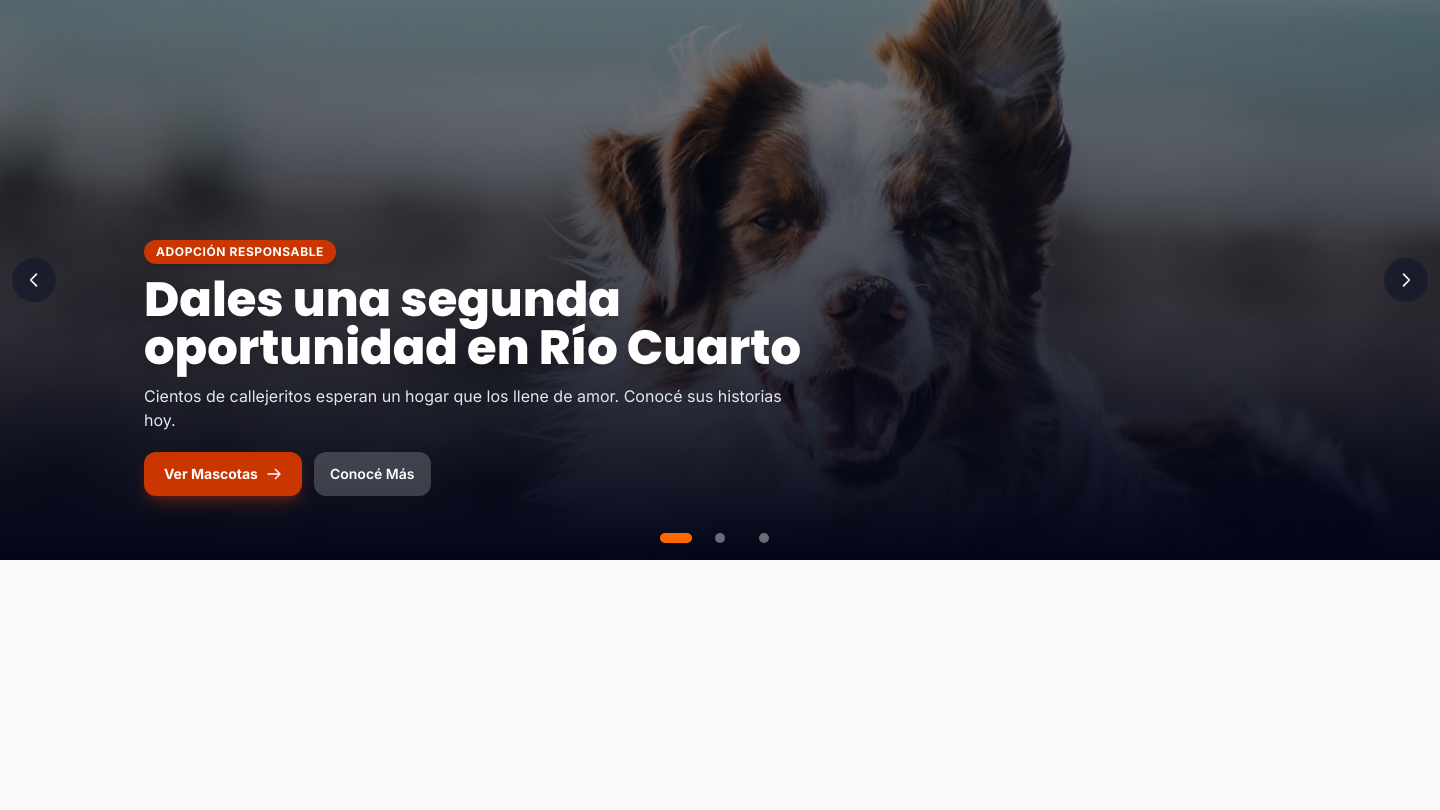
Test: HeroCarousel › cambia de slide con las flechas y los puntitos
Click the button named "Slide siguiente" at (1406, 280), box top-left (1384, 258), bottom-right (1428, 302)
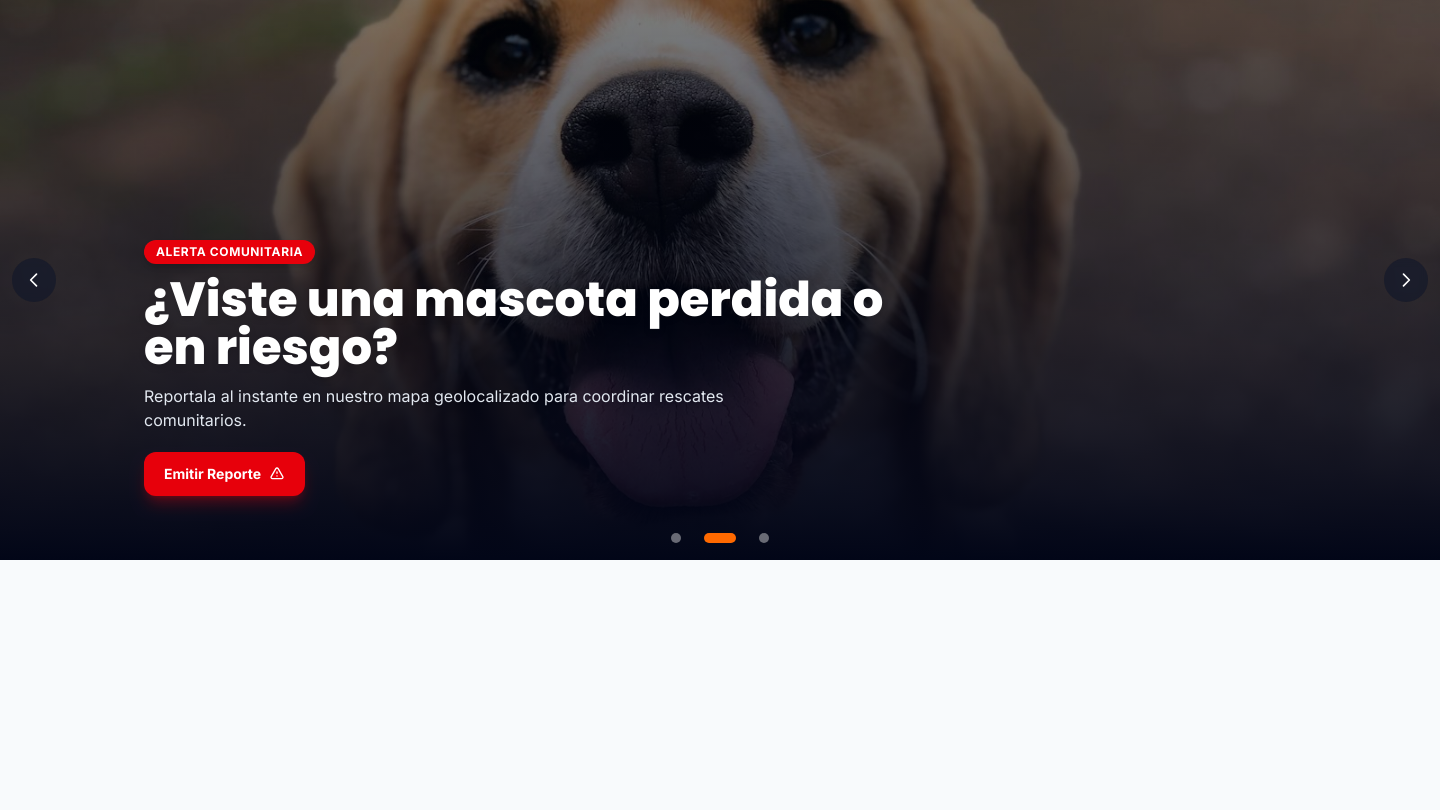
expect the heading "¿Viste una mascota perdida o en riesgo?" is shown: met, box top-left (144, 276), bottom-right (912, 372)
Click the button named "Slide anterior" at (34, 280), box top-left (12, 258), bottom-right (56, 302)
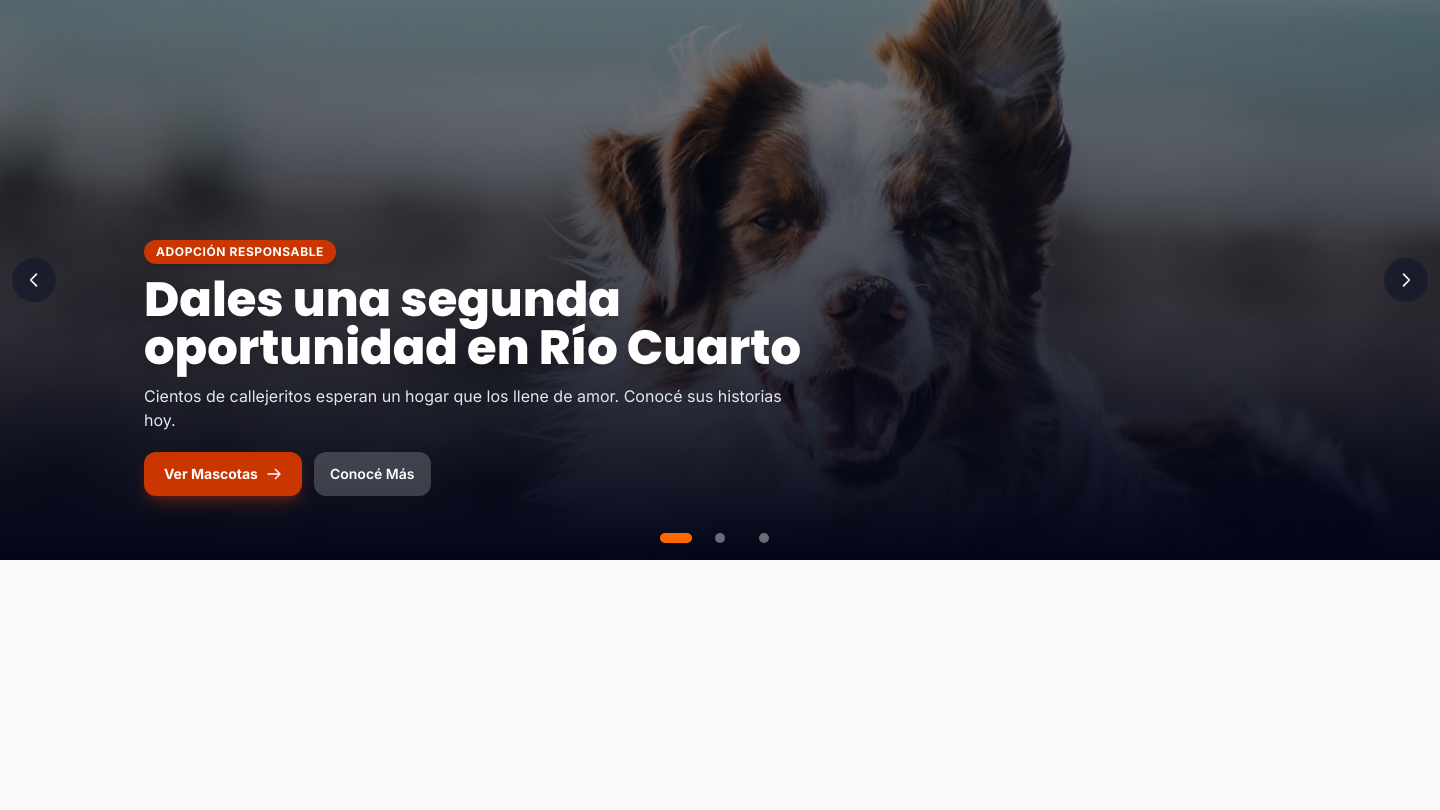
expect the heading "Dales una segunda oportunidad en Río Cuarto" is shown: met, box top-left (144, 276), bottom-right (912, 372)
Desde el primero, "anterior" vuelve al último.
Click the button named "Slide anterior" at (34, 280), box top-left (12, 258), bottom-right (56, 302)
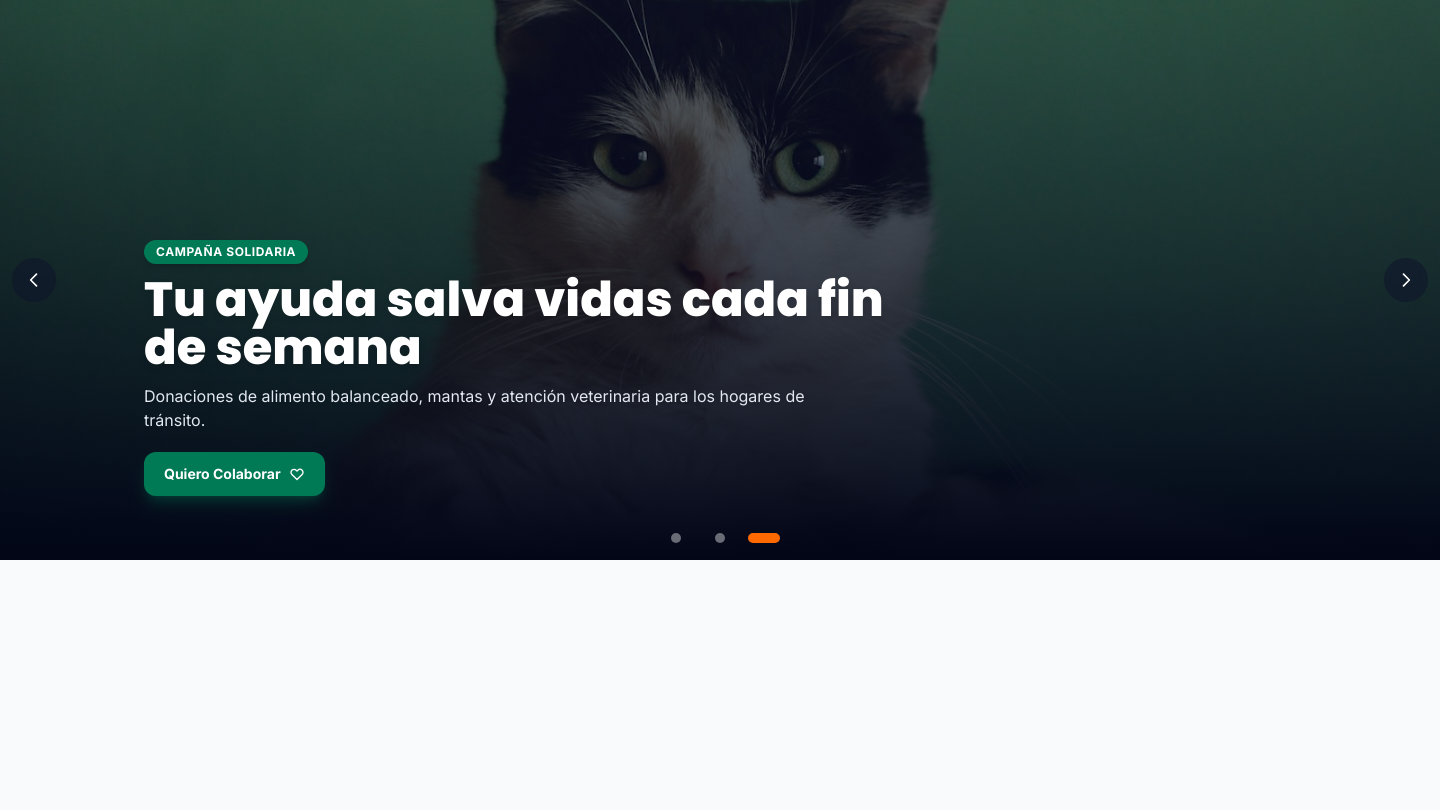
expect the heading "Tu ayuda salva vidas cada fin de semana" is shown: met, box top-left (144, 276), bottom-right (912, 372)
Click the button named "Ir al slide 2" at (720, 538), box top-left (698, 516), bottom-right (742, 560)
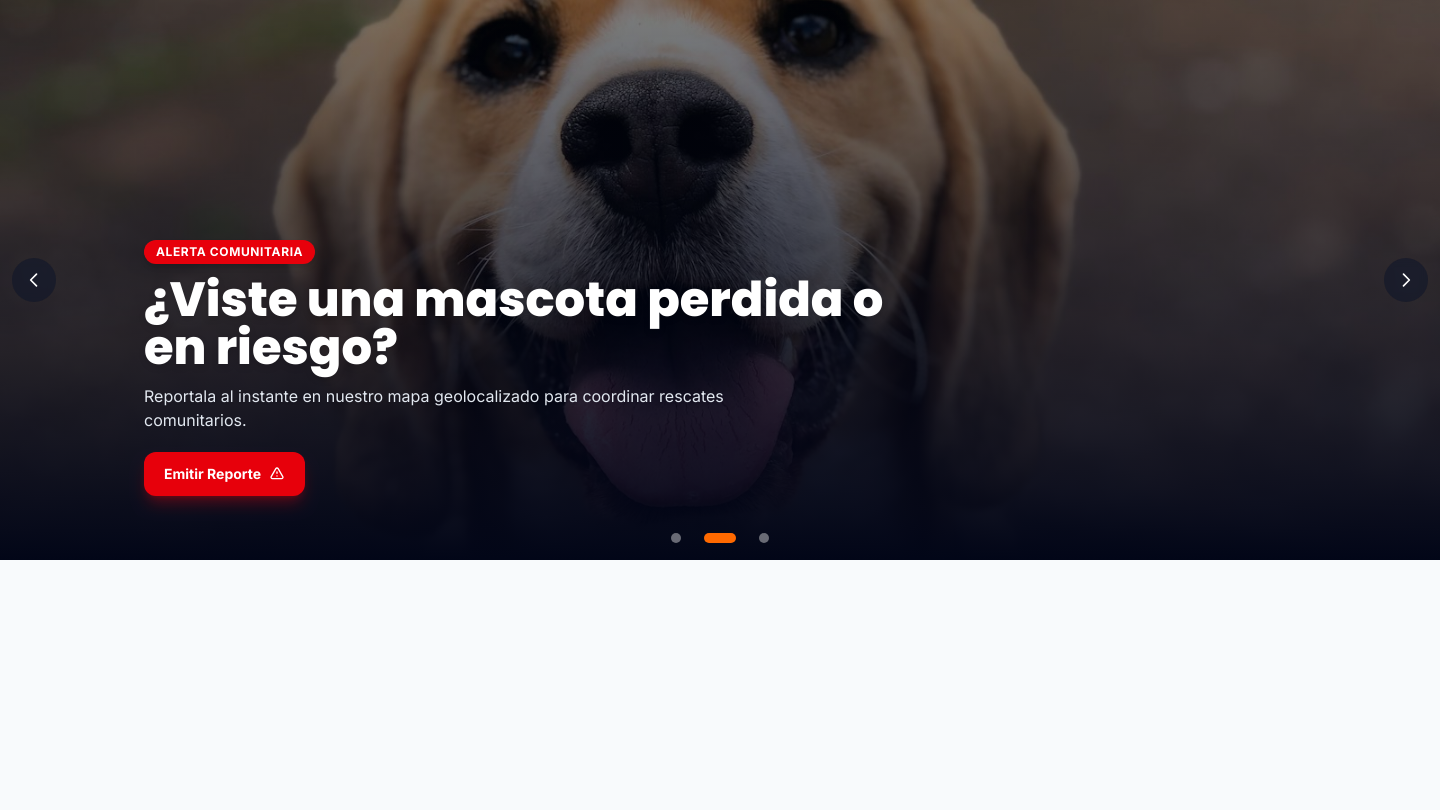
expect the heading "¿Viste una mascota perdida o en riesgo?" is shown: met, box top-left (144, 276), bottom-right (912, 372)
